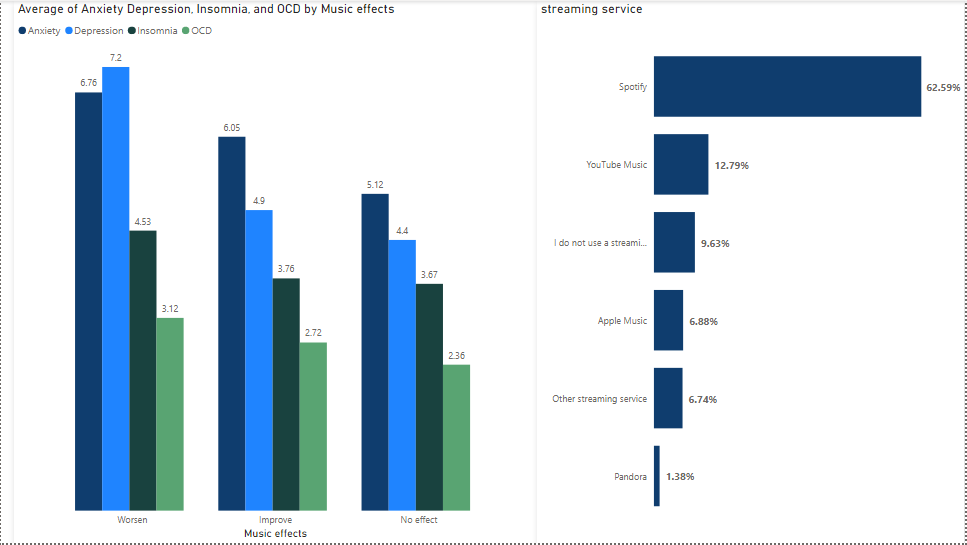

This screenshot's page, from the dashboard's own definition file:
{"tool":"powerbi","page":{"name":"Page 2","canvas":[1280,720],"ordinal":1},"visuals":[{"type":"clusteredColumnChart","fields":{"Category":["Music-and-Therapy-survey-1.Music effects"],"Y":["Avg(Music-and-Therapy-survey-1.Anxiety)","Avg(Music-and-Therapy-survey-1.Depression)","Avg(Music-and-Therapy-survey-1.Insomnia)","Avg(Music-and-Therapy-survey-1.OCD)"]},"box":[17.6,0,695.1,720],"z":0},{"type":"clusteredBarChart","fields":{"Category":["Music-and-Therapy-survey-1.Primary streaming service"],"Y":["CountNonNull(Music-and-Therapy-survey-1.Primary streaming service)"]},"box":[712.7,0,567.8,720],"z":1000}]}

Visuals, with their boxes in screenshot pixels (x1, y1, x2, y2), scaled from the page's 1280x720 canvas onto the 967x545 screenshot:
clusteredColumnChart - Music-and-Therapy-survey-1.Music effects x Avg(Music-and-Therapy-survey-1.Anxiety): <region>13, 0, 538, 544</region>
clusteredBarChart - Music-and-Therapy-survey-1.Primary streaming service x CountNonNull(Music-and-Therapy-survey-1.Primary streaming service): <region>538, 0, 966, 544</region>
